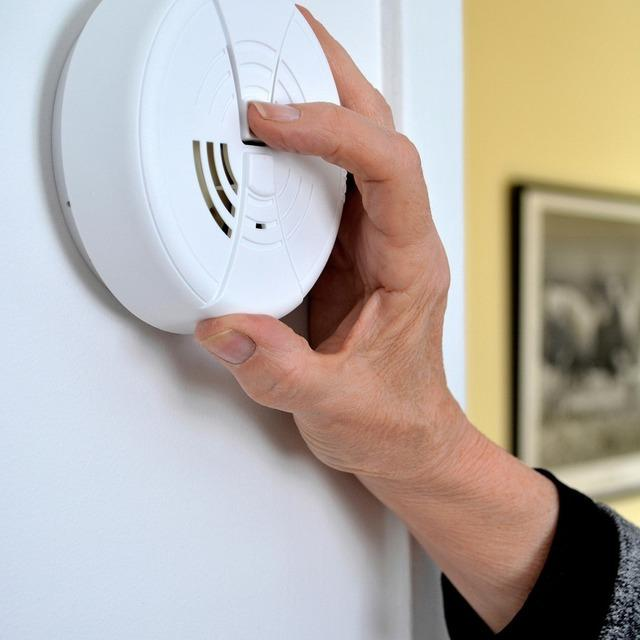Smoke-Detector: (47, 0, 337, 332)
